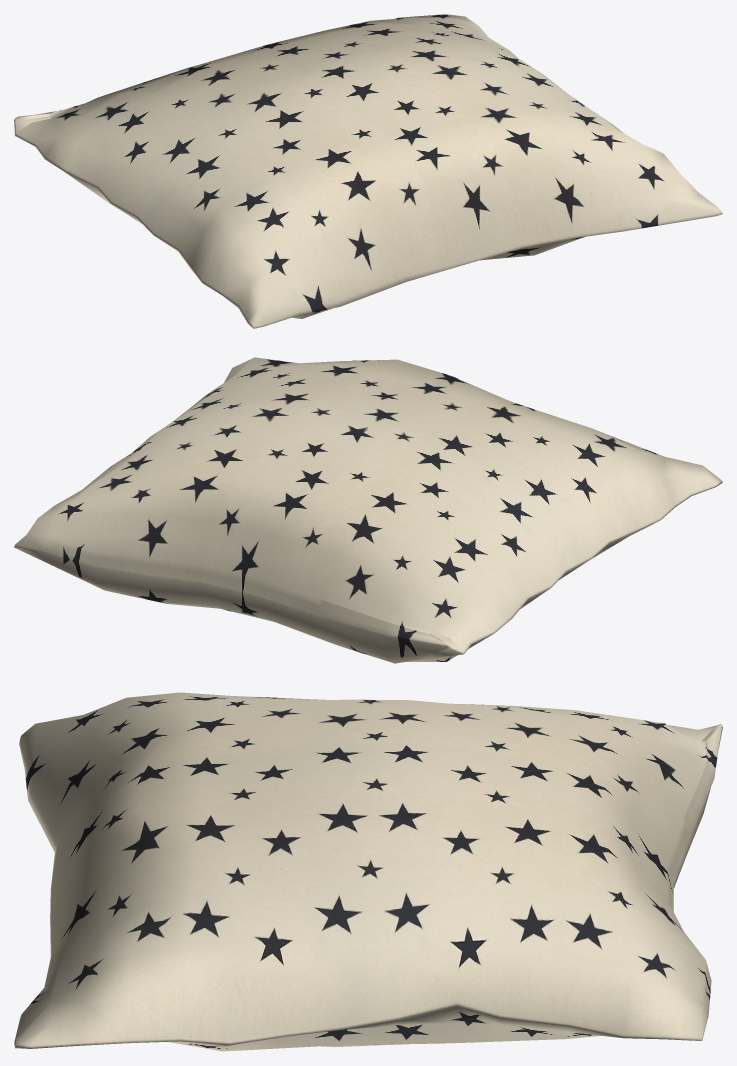
Rendered from Pillow 3.FBX.
The picture shows the model from 3 angles, top to bottom: view 1: azimuth 30°, elevation 25°; view 2: azimuth 150°, elevation 25°; view 3: azimuth 270°, elevation 25°; orthographic projection. The views are drawn at different scales.
Visible parts, largest first — view 1: Pillow 3; view 2: Pillow 3; view 3: Pillow 3.
Part boxes in pixels (x1,y1,x2,y2): Pillow 3: (14, 14, 722, 328); Pillow 3: (14, 357, 722, 663); Pillow 3: (14, 692, 722, 1051).
Bounding box in the file's own units: 37.67 × 13.16 × 36.02.
